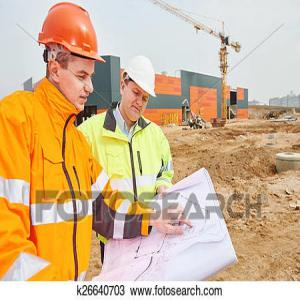red: (43, 4, 100, 113)
white: (122, 56, 158, 120)
